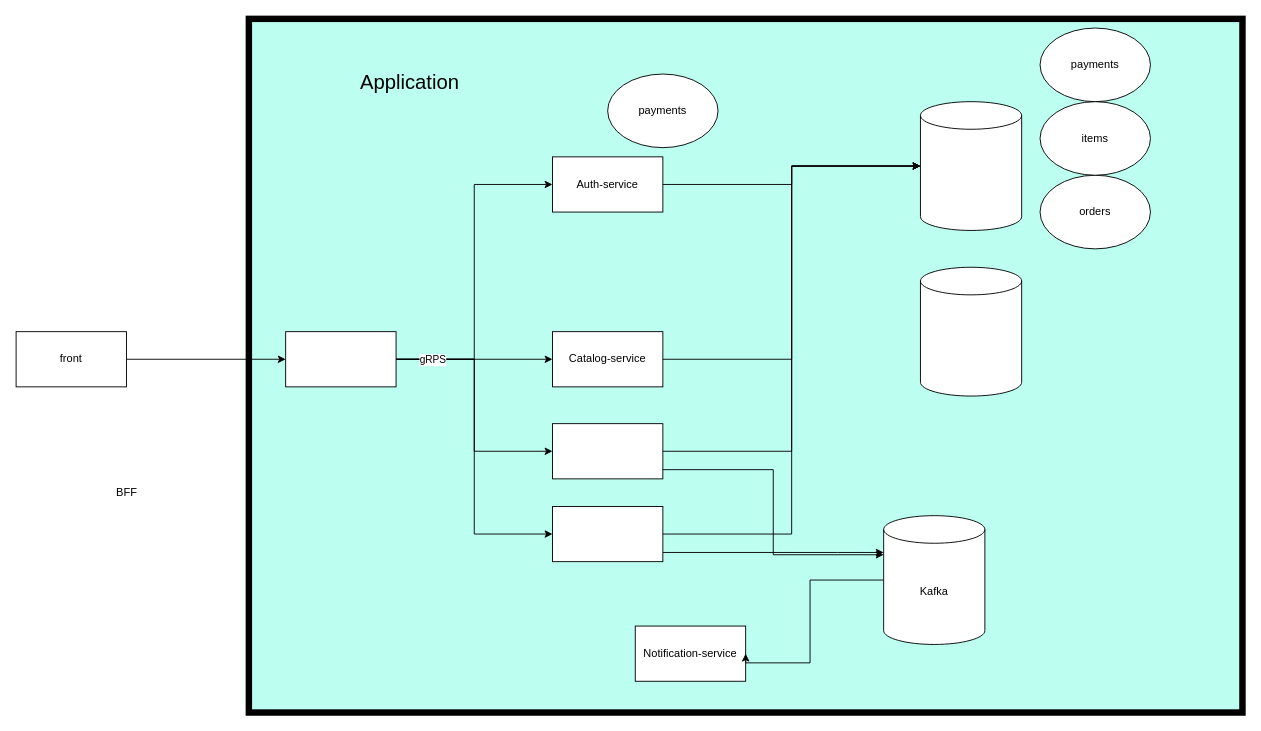
The diagram is 1261 pixels wide and 731 high, and some of its shapes have lost their labels. Each missing label, with the centre of its shape:
Api-gateway: (340,359)
Order-service: (607,534)
Payment-service: (607,451)
Postge SQL: (971,165)
Redis: (971,331)
